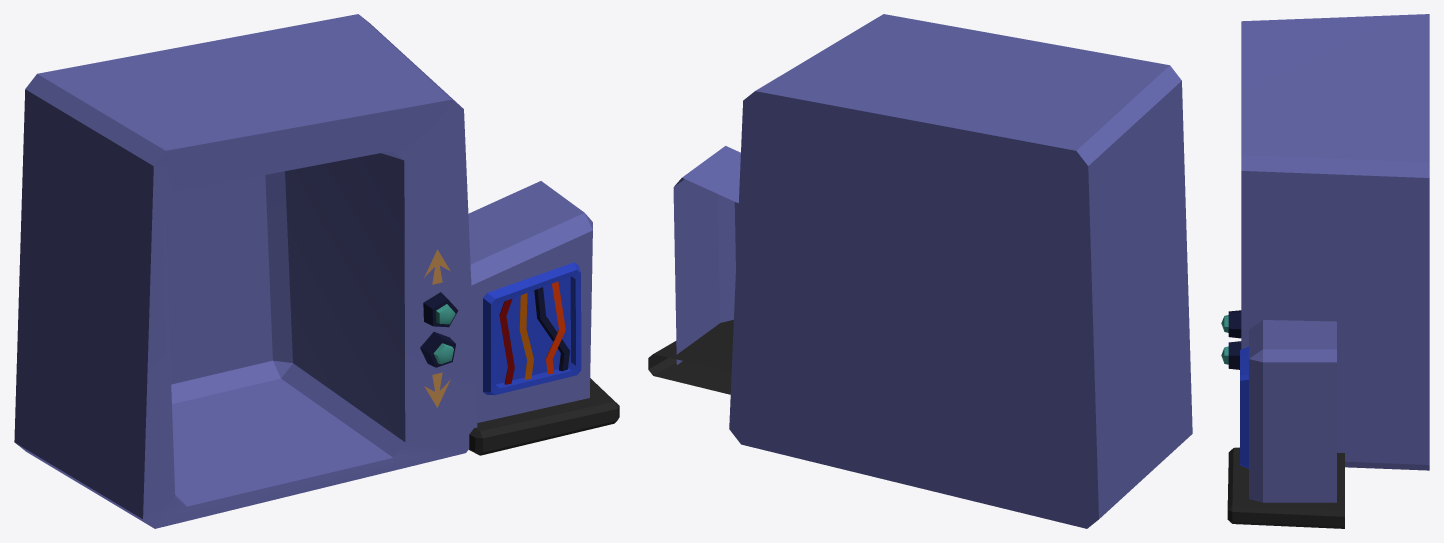
The model's file is MDL_AscensorBase.FBX.
The picture shows the model from 3 angles, left to right: view 1: azimuth 30°, elevation 25°; view 2: azimuth 150°, elevation 25°; view 3: azimuth 270°, elevation 25°; orthographic projection. The views are drawn at different scales.
Visible parts, largest first — view 1: Box006; view 2: Box006; view 3: Box006.
Part boxes in pixels (box(x1,y1,x2,y2)): Box006: box(14, 14, 619, 528); Box006: box(648, 14, 1192, 528); Box006: box(1221, 14, 1429, 528).
Bounding box in the file's own units: 154 × 111 × 65.64.
